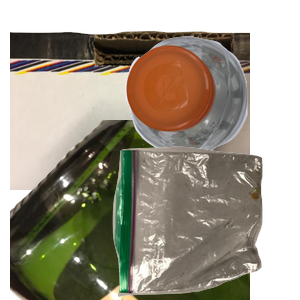cardboard: (10, 29, 250, 209)
glass: (10, 120, 250, 300)
plastic: (123, 33, 300, 181)
trash: (110, 144, 300, 300)
